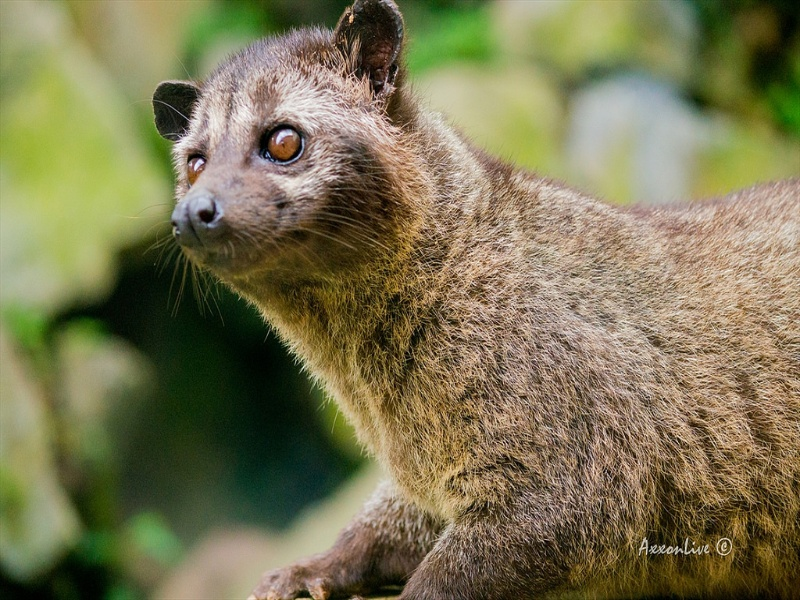minkish: (160, 12, 783, 591)
